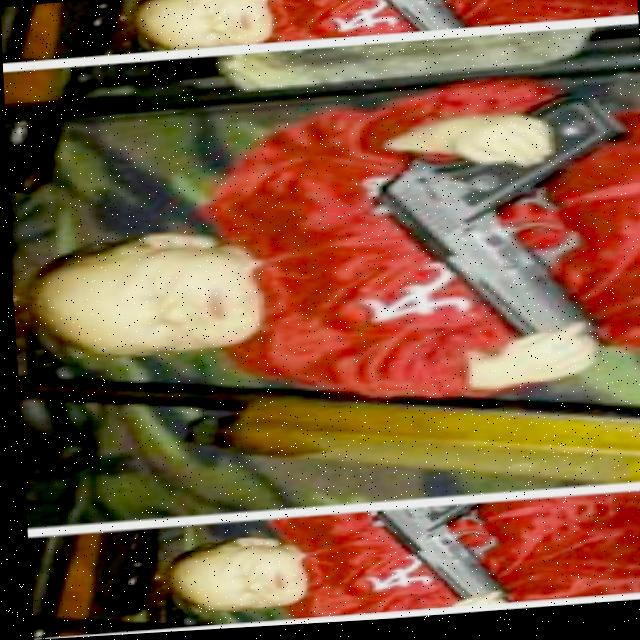pistol: (351, 88, 640, 358), (358, 505, 503, 611), (349, 0, 465, 40)
